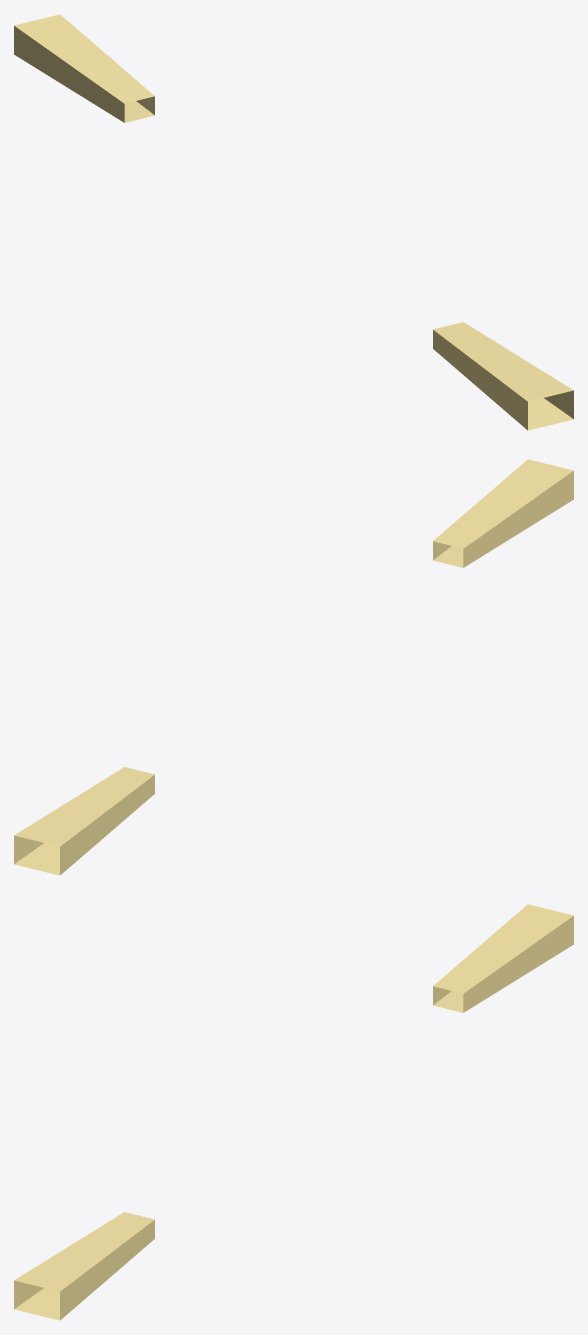
The model's file is infra_lighthouse_beams_2.glb.
3 renders of one model, top to bottom at view 1: azimuth 30°, elevation 25°; view 2: azimuth 150°, elevation 25°; view 3: azimuth 330°, elevation 25°, orthographic.
Bounding box in the file's own units: 3.11 × 1.87 × 60.
